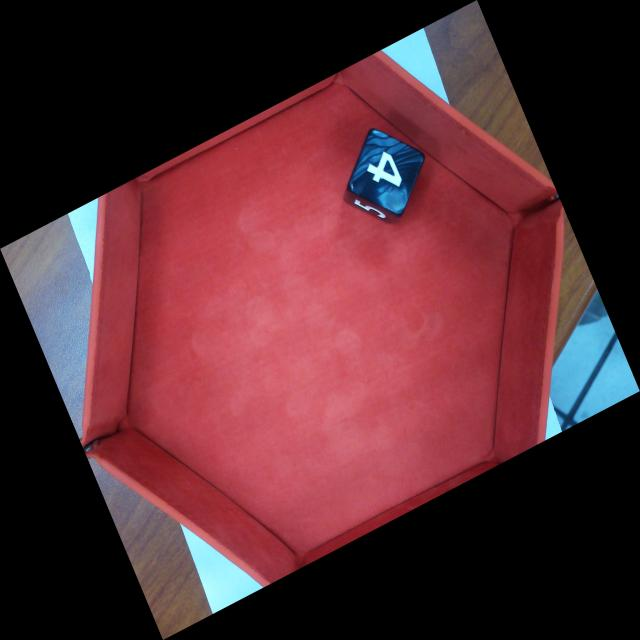dice: (349, 127, 429, 216)
